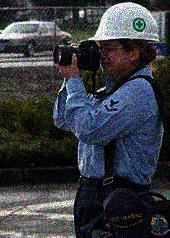helmet: (83, 1, 161, 76)
